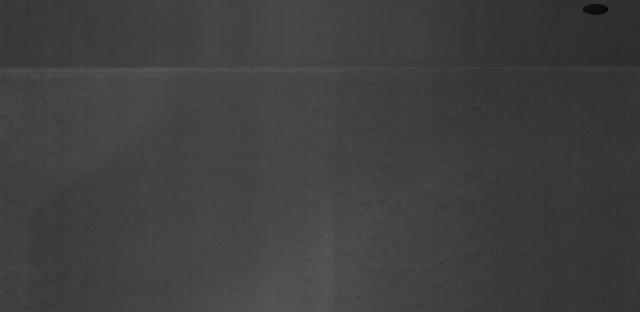punching_hole: (578, 1, 613, 18)
silk_spot: (326, 93, 528, 294), (3, 90, 102, 298)
welding_line: (9, 52, 633, 84)
